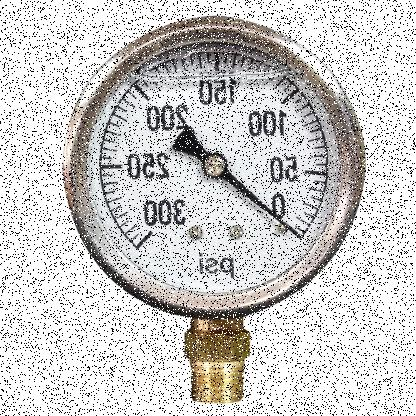needle: (221, 169, 299, 237)
